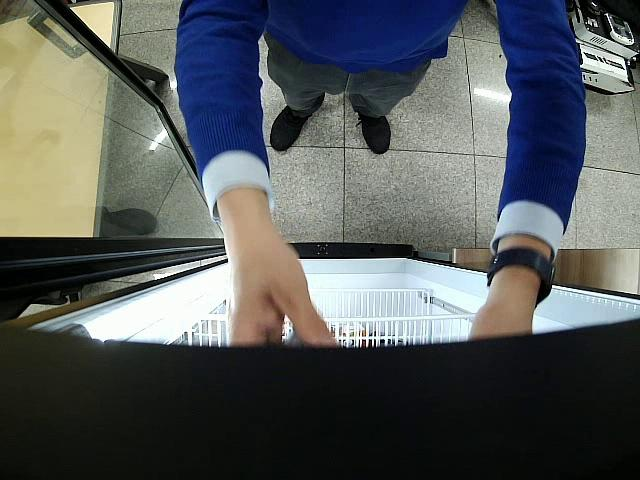00_hand: (217, 206, 336, 346)
